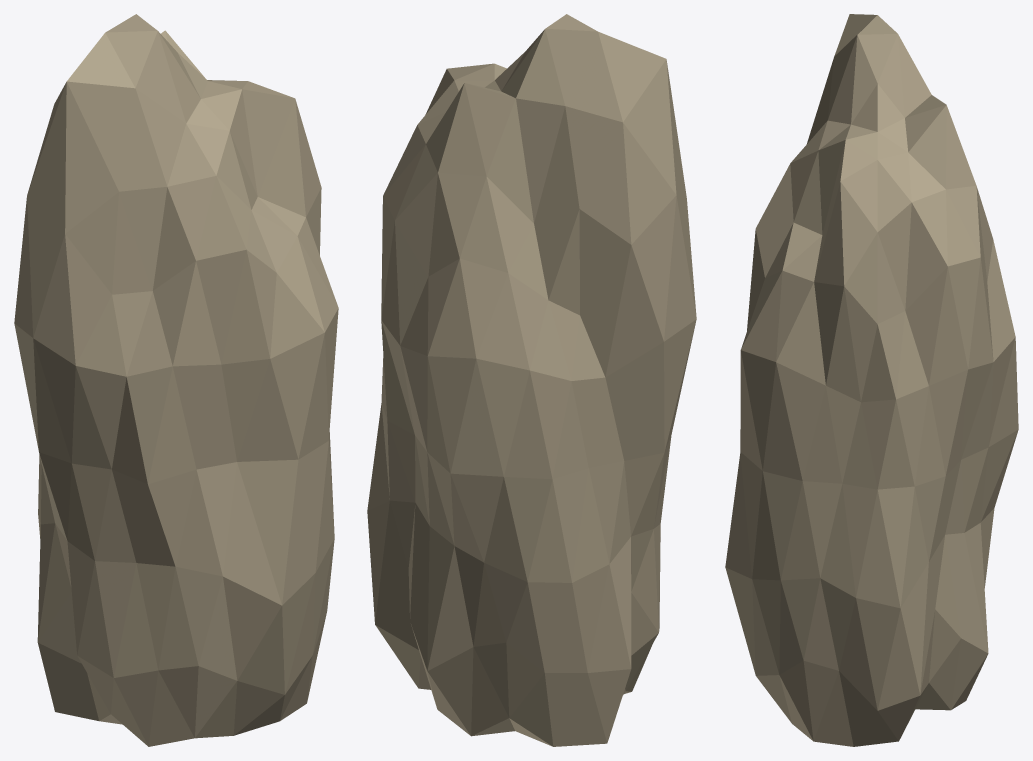
File: SM_SB_Kit_RockTall.fbx
The picture shows the model from 3 angles, left to right: view 1: azimuth 30°, elevation 25°; view 2: azimuth 150°, elevation 25°; view 3: azimuth 270°, elevation 25°; orthographic projection. The views are drawn at different scales.
Visible parts, largest first — view 1: SM_SB_Kit_RockTall; view 2: SM_SB_Kit_RockTall; view 3: SM_SB_Kit_RockTall.
Boxes of the visible parts, x1,y1,x2,y2 form: SM_SB_Kit_RockTall: (14, 14, 338, 746); SM_SB_Kit_RockTall: (367, 14, 696, 746); SM_SB_Kit_RockTall: (725, 14, 1018, 746).
Bounding box in the file's own units: 960 × 853 × 2084.
